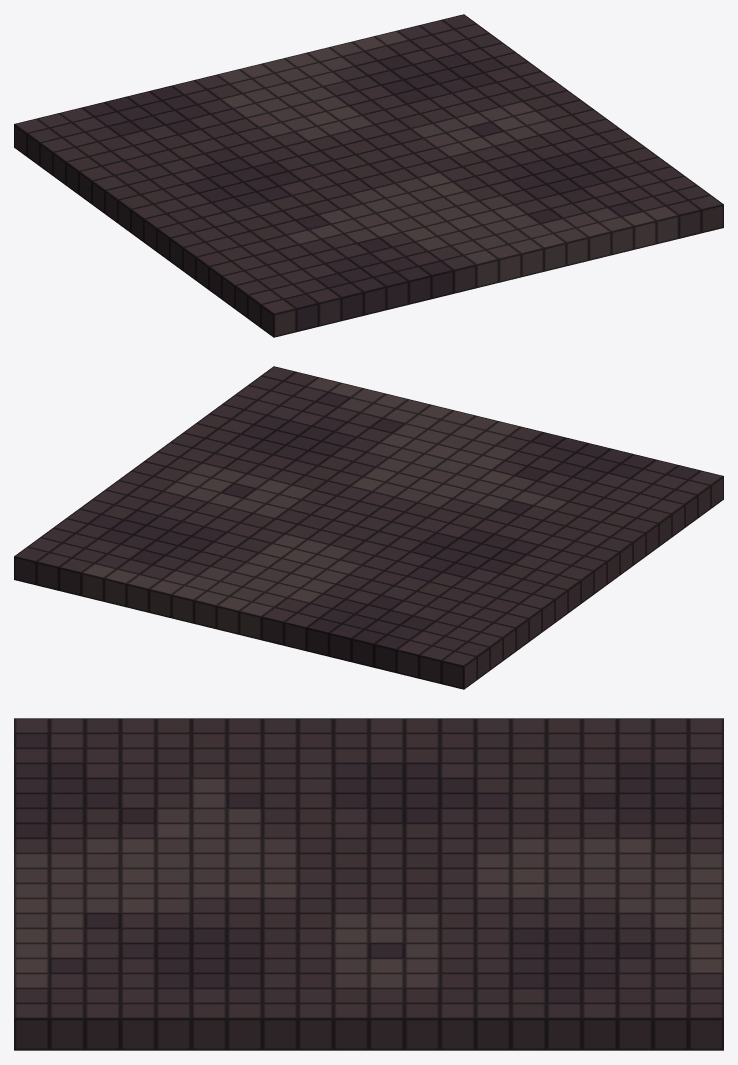
File: floor_tile_b.glb
The picture shows the model from 3 angles, top to bottom: view 1: azimuth 30°, elevation 25°; view 2: azimuth 150°, elevation 25°; view 3: azimuth 270°, elevation 25°; orthographic projection. The views are drawn at different scales.
Visible parts, largest first — view 1: floor_tile_b; view 2: floor_tile_b; view 3: floor_tile_b.
Boxes of the visible parts, <box> form: floor_tile_b: <box>14,14,723,337</box>; floor_tile_b: <box>14,366,723,689</box>; floor_tile_b: <box>14,718,723,1050</box>.
Size of the model in its own units: 1 by 0.05 by 1.
Materials: 3 (3 with a texture image).
